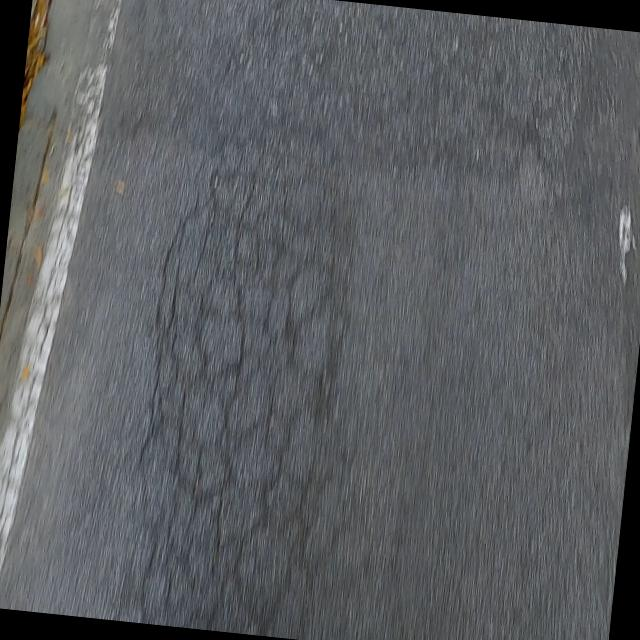Retak-Buaya: (136, 93, 345, 636)
